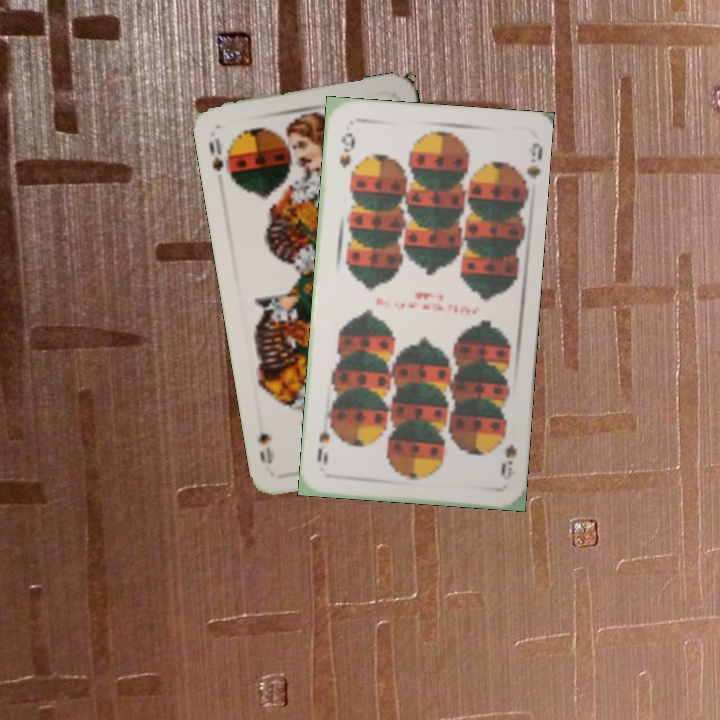S9: (494, 425, 519, 483), (335, 128, 357, 170)
SO: (205, 133, 226, 174)
